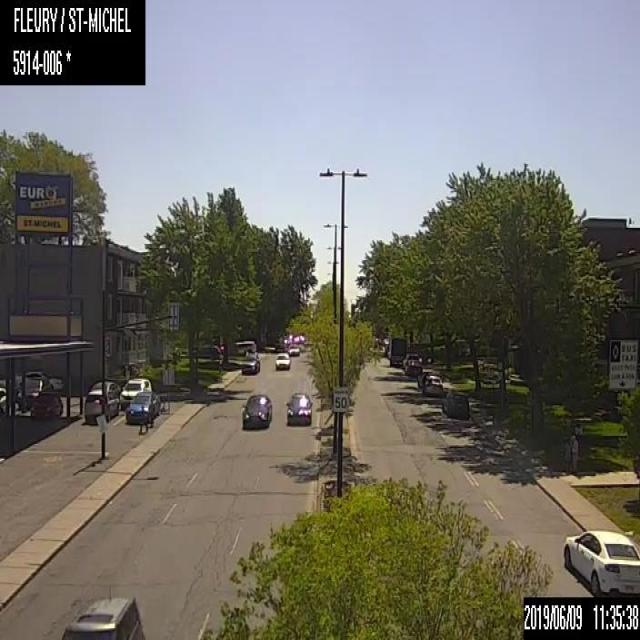pedestrian: (564, 434, 577, 472), (138, 405, 148, 434), (146, 398, 155, 427)
vehicle: (562, 526, 639, 594), (60, 596, 145, 638), (83, 387, 119, 423), (124, 391, 160, 424), (240, 393, 272, 430), (15, 376, 52, 408), (119, 377, 151, 409), (285, 390, 312, 426), (15, 370, 63, 389), (30, 390, 62, 415), (441, 390, 468, 417), (88, 380, 120, 402), (386, 335, 406, 366), (196, 338, 223, 359), (240, 348, 260, 374), (421, 374, 442, 396), (232, 339, 256, 356), (0, 386, 12, 418), (403, 360, 422, 379), (416, 367, 434, 387), (402, 352, 422, 369), (274, 352, 290, 369), (287, 342, 299, 356)
